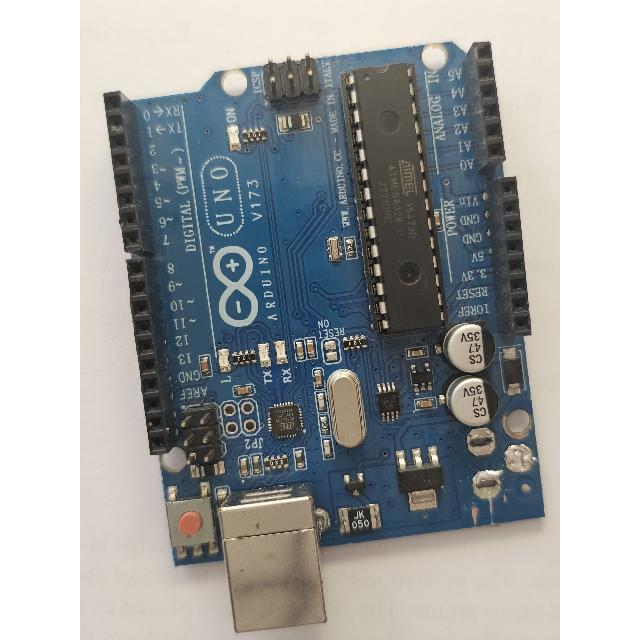missing_eps: (444, 419, 540, 571)
